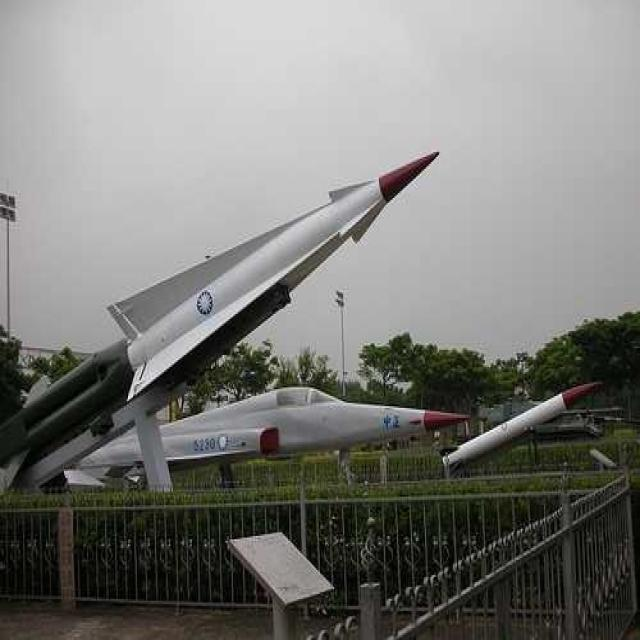missile: (108, 141, 447, 405), (438, 377, 605, 467)
